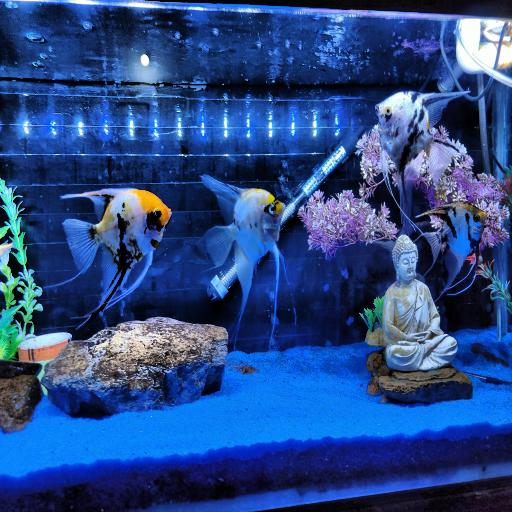Fish: (62, 189, 171, 328), (201, 175, 285, 347), (376, 91, 466, 233), (417, 203, 486, 296), (0, 243, 13, 264)
